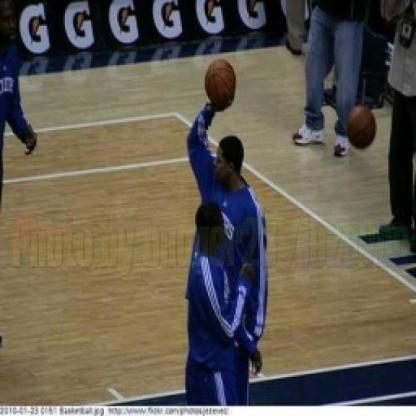basketball: (200, 56, 244, 113), (344, 101, 380, 154)
